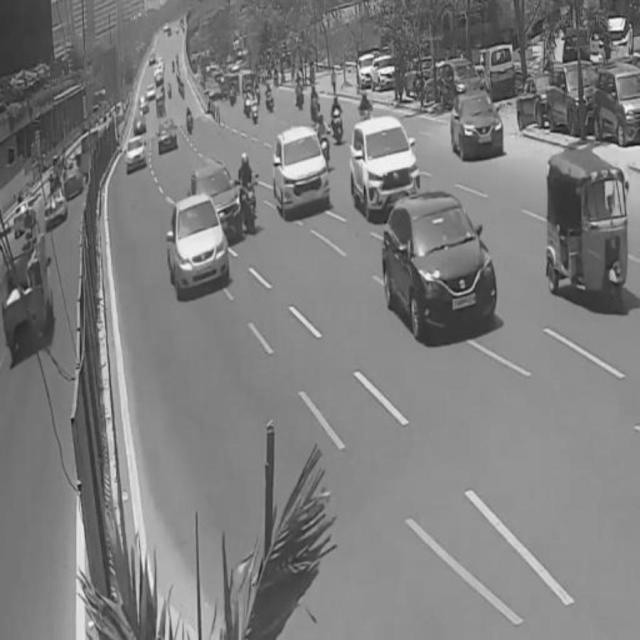vehicle: (388, 178, 496, 330), (547, 150, 627, 304), (351, 114, 422, 216), (166, 199, 230, 301), (272, 132, 332, 214), (192, 160, 243, 242), (544, 58, 598, 135), (594, 66, 640, 144), (450, 88, 501, 158), (234, 150, 264, 238), (124, 135, 148, 176)
